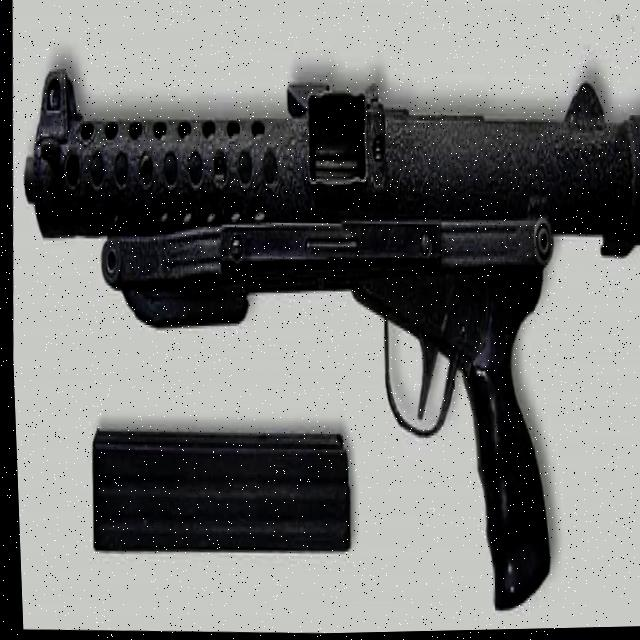firearm: (2, 48, 640, 624)
